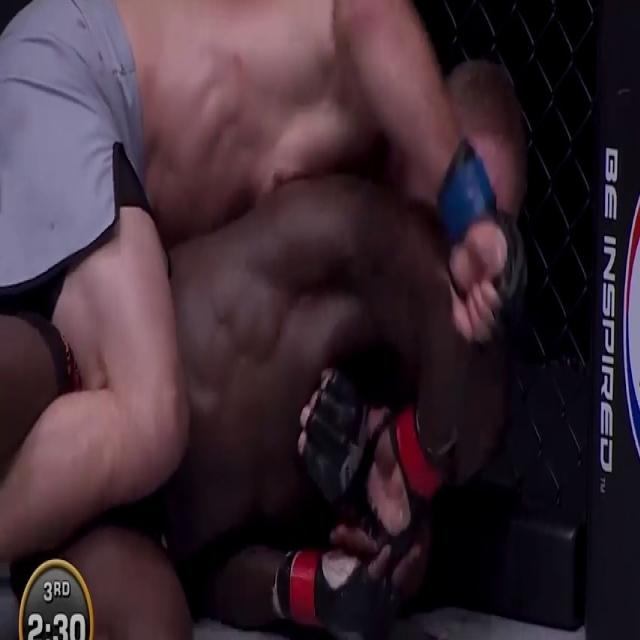fight: (0, 0, 553, 639)
